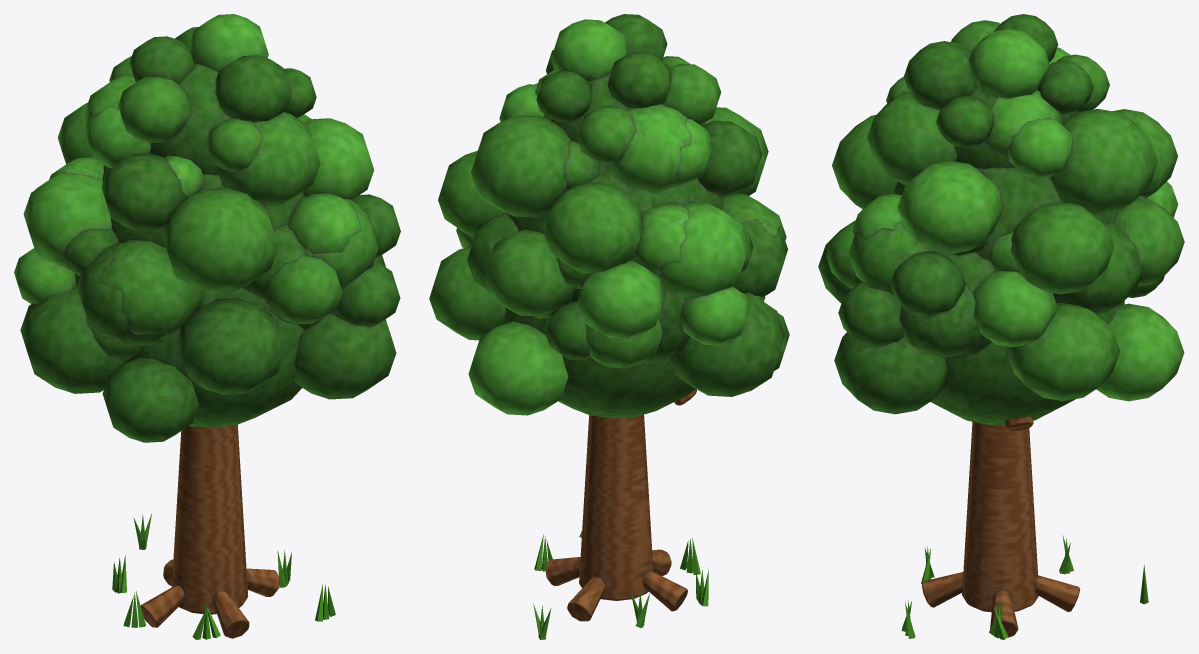
File: rowan_tree.glb
3 renders of one model, left to right at view 1: azimuth 30°, elevation 25°; view 2: azimuth 150°, elevation 25°; view 3: azimuth 270°, elevation 25°, orthographic. The views are drawn at different scales.
Parts seen in each view (by area): view 1: crown, rowan_tree; view 2: crown, rowan_tree; view 3: crown, rowan_tree.
Part boxes in pixels (<box>): crown: <box>14,14,400,442</box>; rowan_tree: <box>112,424,335,639</box>; crown: <box>429,14,789,418</box>; rowan_tree: <box>533,389,708,639</box>; crown: <box>818,14,1184,424</box>; rowan_tree: <box>901,416,1148,639</box>.
Bounding box in the file's own units: 0.8855 × 1.5 × 0.8488.
1 material, 1 textured.
